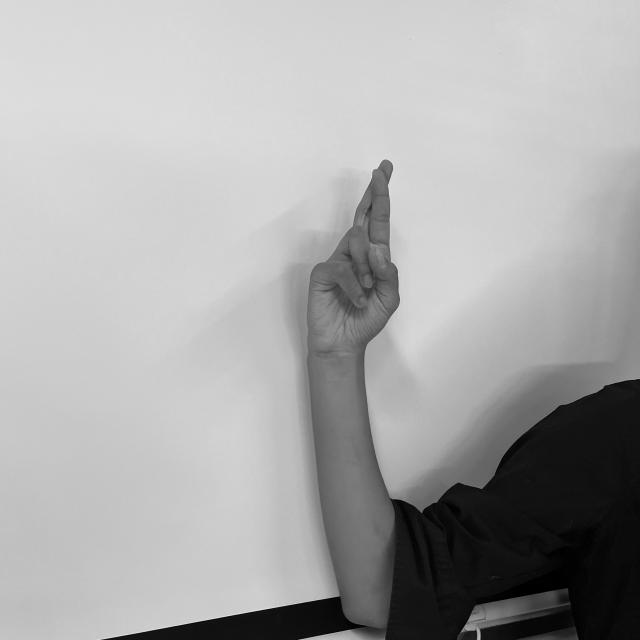Letra R: (299, 154, 402, 355)
